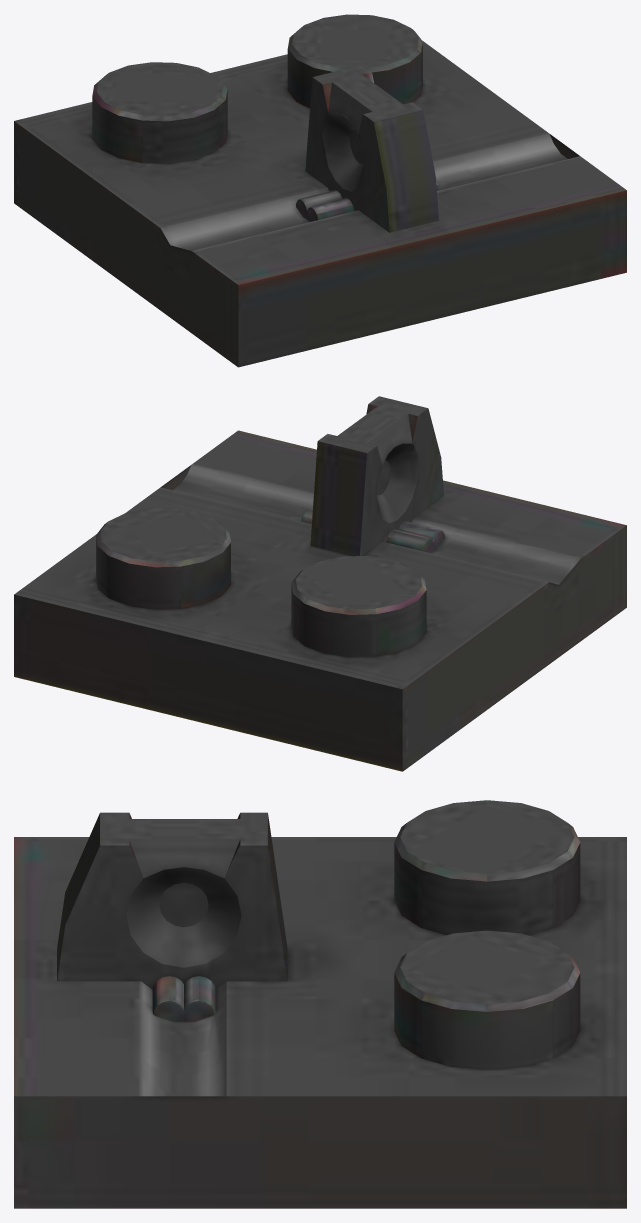
Rendered from Lego_2.glb.
3 renders of one model, top to bottom at view 1: azimuth 30°, elevation 25°; view 2: azimuth 150°, elevation 25°; view 3: azimuth 270°, elevation 25°, orthographic. The views are drawn at different scales.
Parts seen in each view (by area): view 1: Part_2; view 2: Part_2; view 3: Part_2.
Boxes of the visible parts, box(x1,y1,x2,y2) form: Part_2: box(14, 14, 626, 367); Part_2: box(14, 396, 626, 771); Part_2: box(14, 800, 626, 1208).
Size of the model in its own units: 0.1581 by 0.0706 by 0.158.
1 material, 1 textured.
